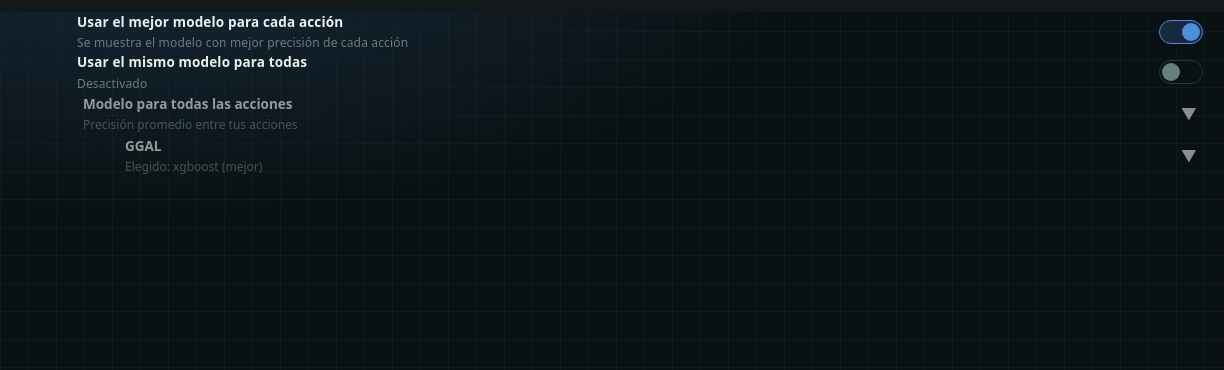
Test case: DefaultModelsSettings › lets the user override a ticker once the global toggles are off
The width and height of the screenshot is (1224, 370).
Expected: the text "Elegido: xgboost (mejor)" is shown, [125,158,262,176]
# useBest arranca prendido: apagarlo habilita la elección por acción
What coordinates should you click on to do the following:
click the switch named "Usar el mejor modelo para cada acción"
I would click on:
 (1181, 32)
Its box is [1159,20,1203,44].
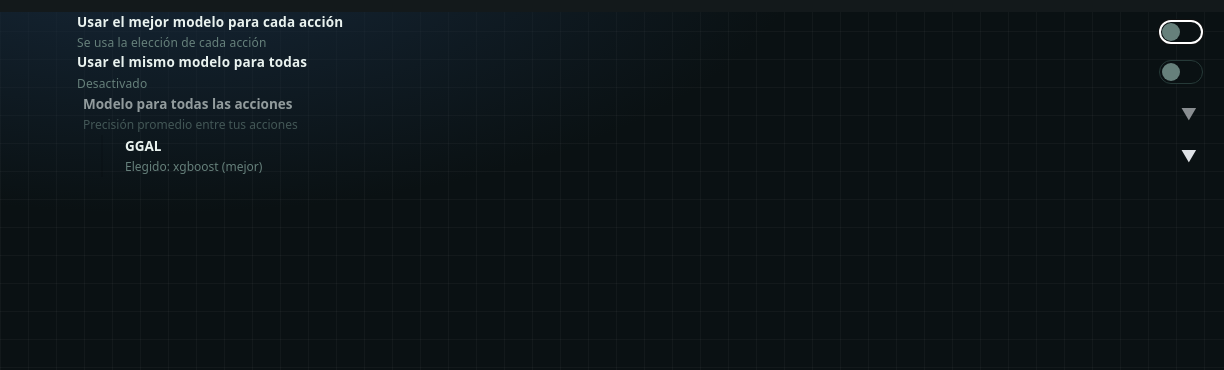
What coordinates should you click on to do the following:
click the button "GGAL Elegido: xgboost (mejor) ▼"
I would click on:
 (143, 146)
Its box is [119,135,1203,177].
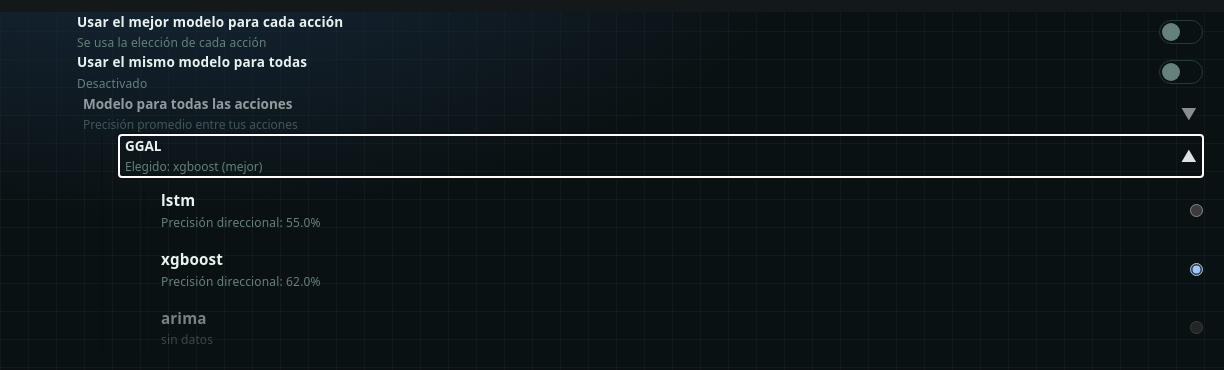
What coordinates should you click on to do the following:
click the radio button labelled "lstm Precisión direccional: 55.0%"
I would click on:
 (1196, 210)
Its box is [1190,204,1203,217].
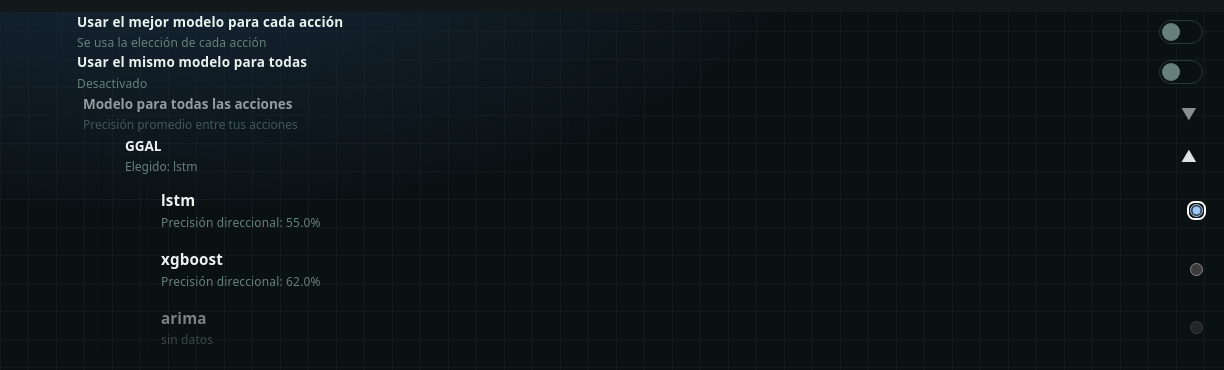
Expected: the text "Elegido: lstm" is shown, [125,158,197,176]
